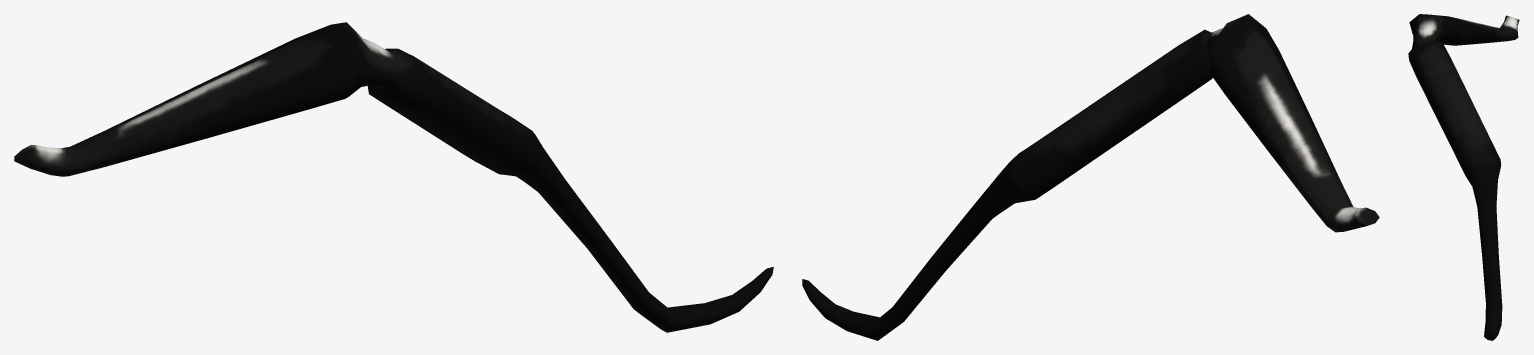
Rendered from Enemy_Cockroach_001_FLeg.fbx.
3 renders of one model, left to right at view 1: azimuth 30°, elevation 25°; view 2: azimuth 150°, elevation 25°; view 3: azimuth 270°, elevation 25°, orthographic. The views are drawn at different scales.
Parts seen in each view (by area): view 1: polySurface4; view 2: polySurface4; view 3: polySurface4.
Part boxes in pixels (left/top/right/bottom): polySurface4: left=14, top=22, right=773, bottom=332; polySurface4: left=802, top=14, right=1379, bottom=340; polySurface4: left=1408, top=14, right=1519, bottom=340.
Size of the model in its own units: 85.27 by 48.97 by 22.35.
